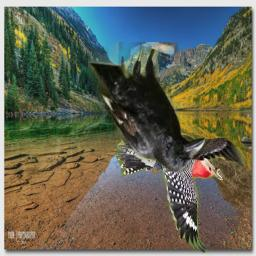Crow: (88, 42, 205, 172)
Woodpecker: (116, 123, 244, 253)
